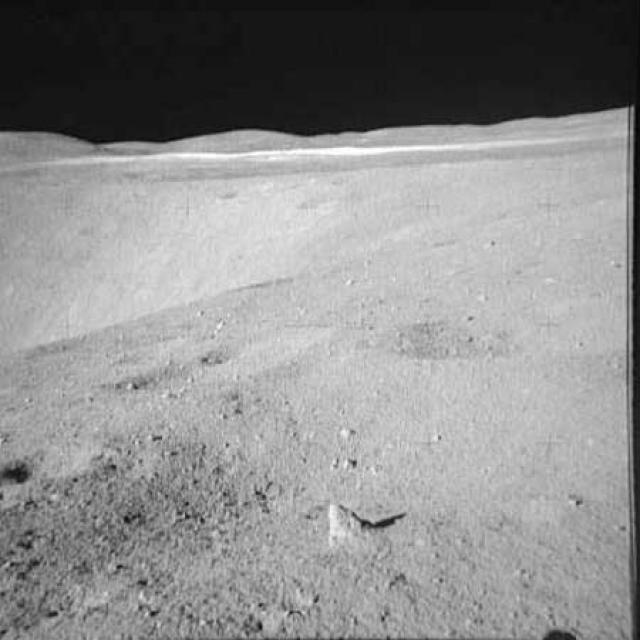crater: (376, 297, 633, 364), (0, 429, 104, 498), (206, 319, 345, 367), (110, 361, 208, 401), (218, 177, 277, 205), (295, 191, 347, 219)
rock: (316, 503, 392, 555), (336, 452, 356, 478), (337, 424, 358, 445)
